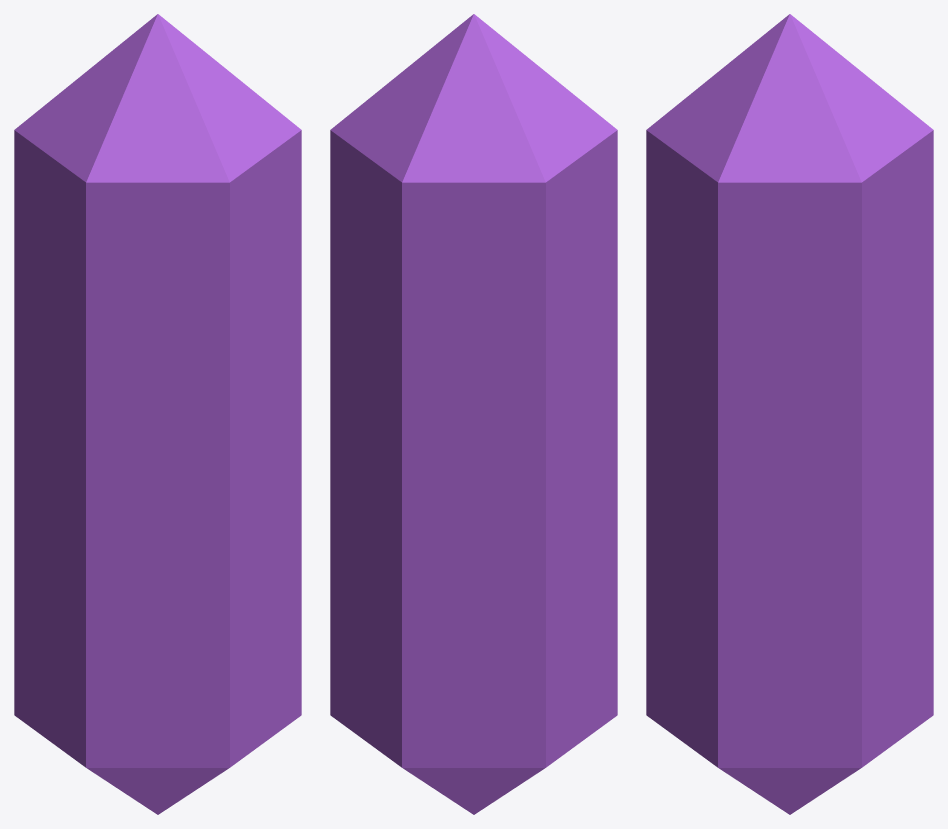
The model's file is CristalRoxo.glb.
3 views of the same model, side by side, from view 1: azimuth 30°, elevation 25°; view 2: azimuth 150°, elevation 25°; view 3: azimuth 270°, elevation 25° (orthographic).
Visible parts, largest first — view 1: Cylinder; view 2: Cylinder; view 3: Cylinder.
Boxes of the visible parts, x1,y1,x2,y2 form: Cylinder: (14, 14, 301, 814); Cylinder: (330, 14, 617, 814); Cylinder: (646, 14, 933, 814).
Bounding box in the file's own units: 1.76 × 6.24 × 2.03.
